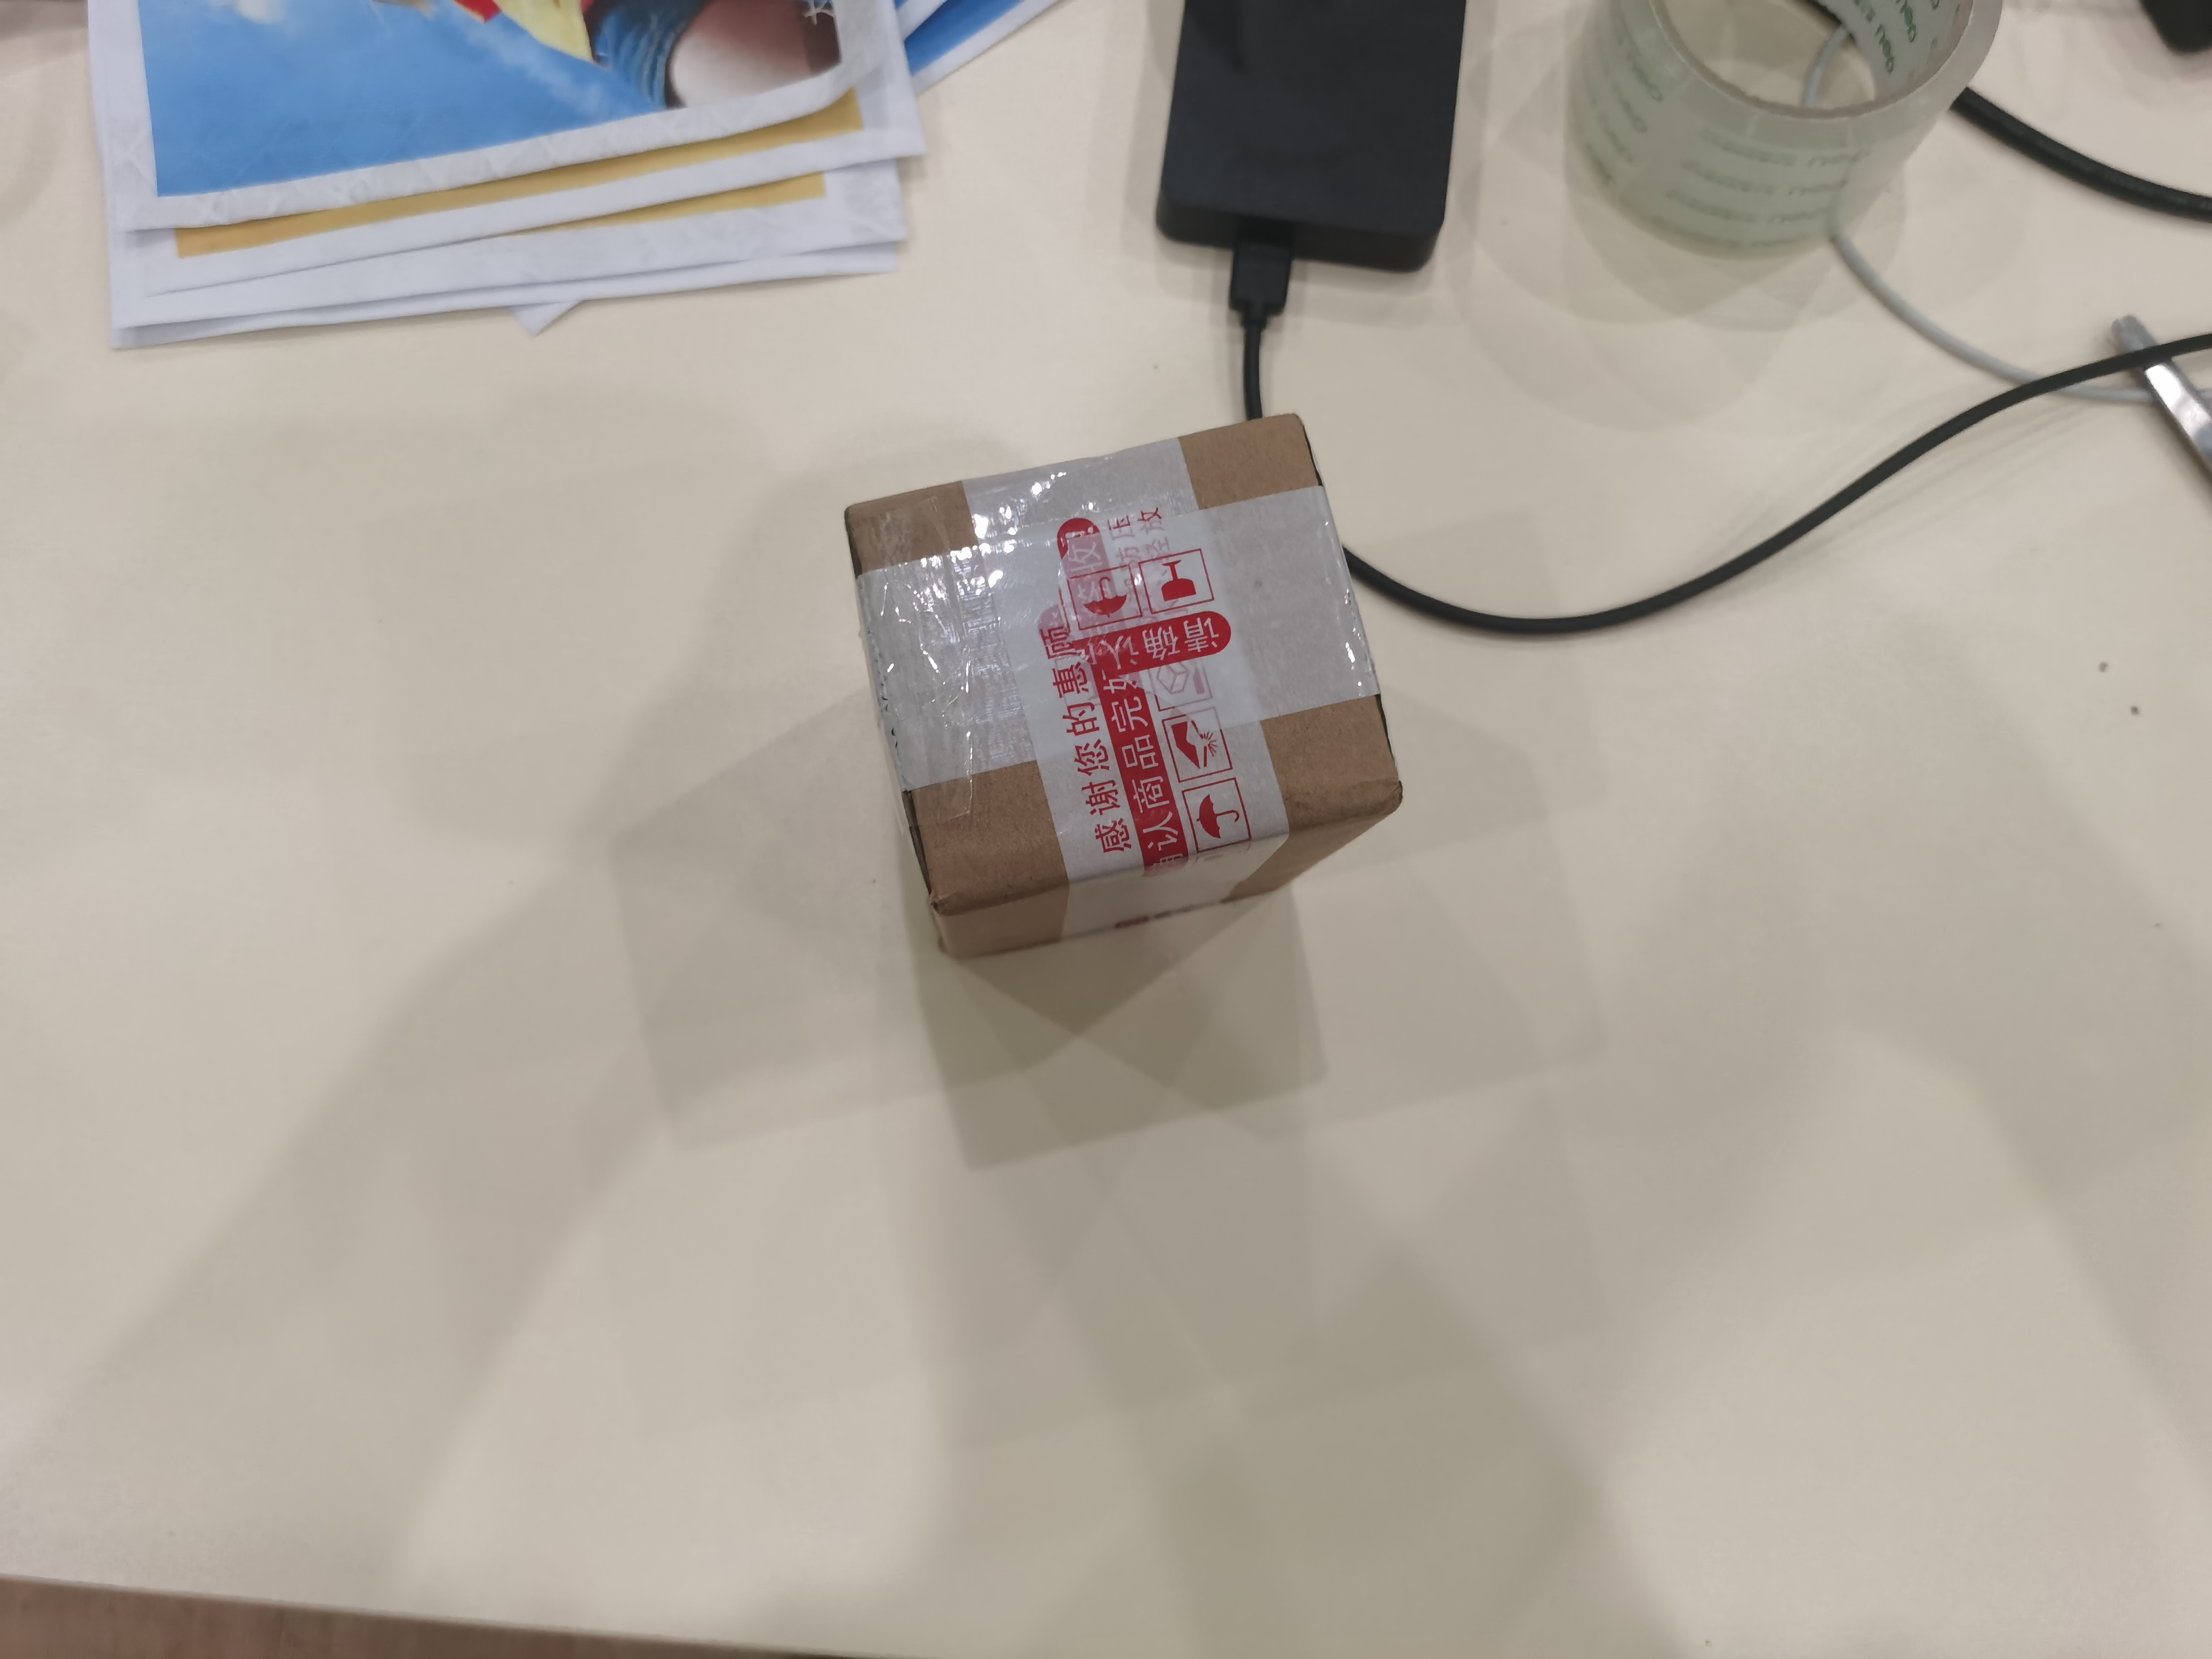box: (801, 457, 1494, 941)
